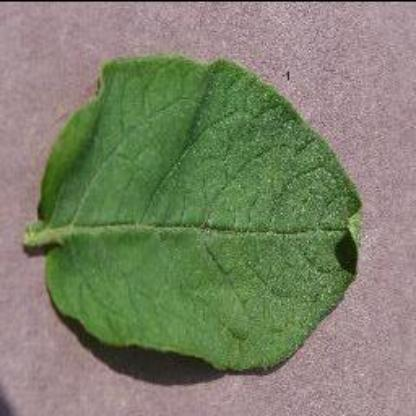Healthy-plant: (26, 50, 368, 380)
